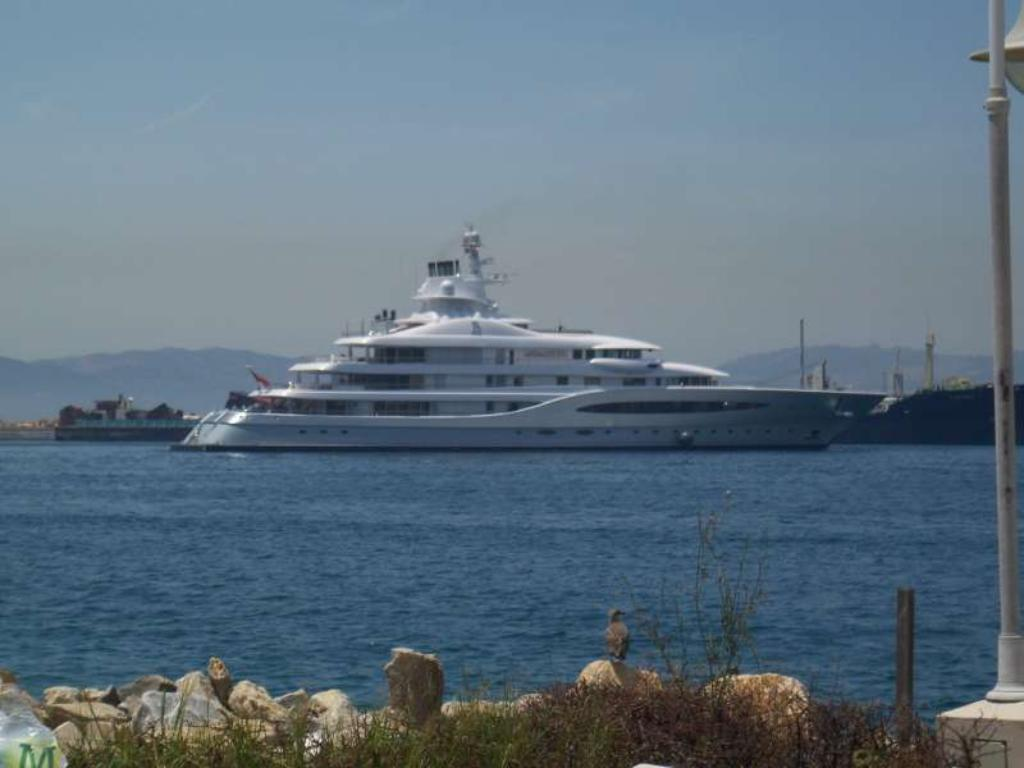PassengerShip: (160, 224, 894, 458)
